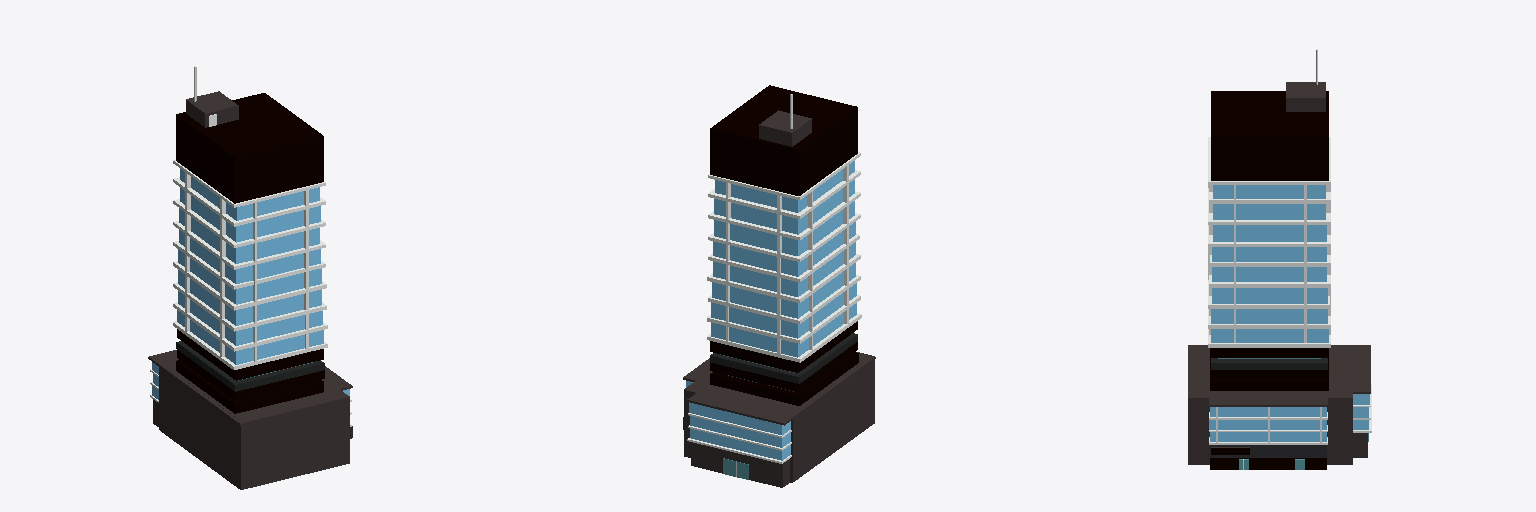
The model's file is bill_brown (1).obj.
3 views of the same model, side by side, from view 1: azimuth 30°, elevation 25°; view 2: azimuth 150°, elevation 25°; view 3: azimuth 270°, elevation 25° (orthographic).
Visible parts, largest first — view 1: Cube.001; view 2: Cube.001; view 3: Cube.001.
Part boxes in pixels (x1,y1,x2,y2): Cube.001: (148, 66, 352, 489); Cube.001: (683, 85, 875, 487); Cube.001: (1188, 49, 1371, 469).
Bounding box in the file's own units: 7.26 × 20.74 × 9.3.